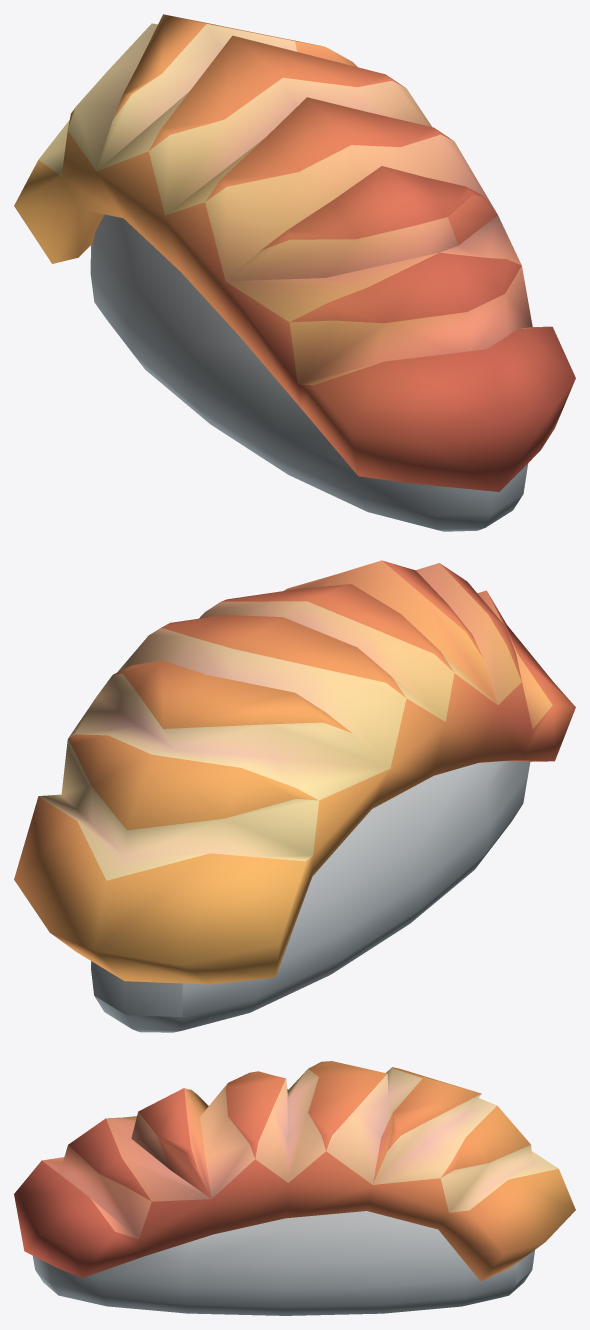
Rendered from sushi_004.fbx.
3 views of the same model, one above another, from view 1: azimuth 30°, elevation 25°; view 2: azimuth 150°, elevation 25°; view 3: azimuth 270°, elevation 25° (orthographic). The views are drawn at different scales.
Visible parts, largest first — view 1: sushi_004; view 2: sushi_004; view 3: sushi_004.
Part boxes in pixels (x1,y1,x2,y2): sushi_004: [14, 14, 575, 531]; sushi_004: [14, 560, 575, 1032]; sushi_004: [14, 1061, 575, 1315].
Bounding box in the file's own units: 3.81 × 9.27 × 3.99.
